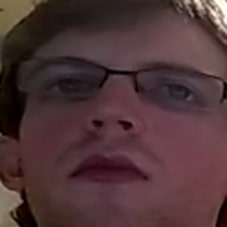drowsy: (33, 50, 227, 196)
